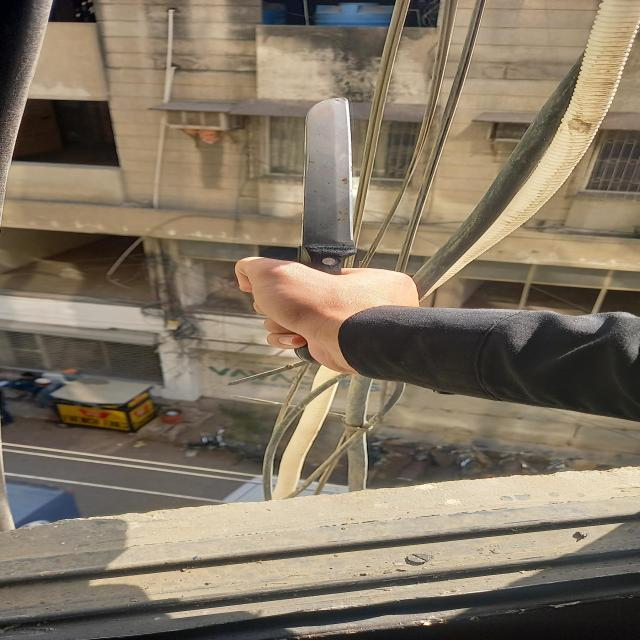Knife: (304, 99, 348, 275)
Person: (237, 258, 640, 416)
